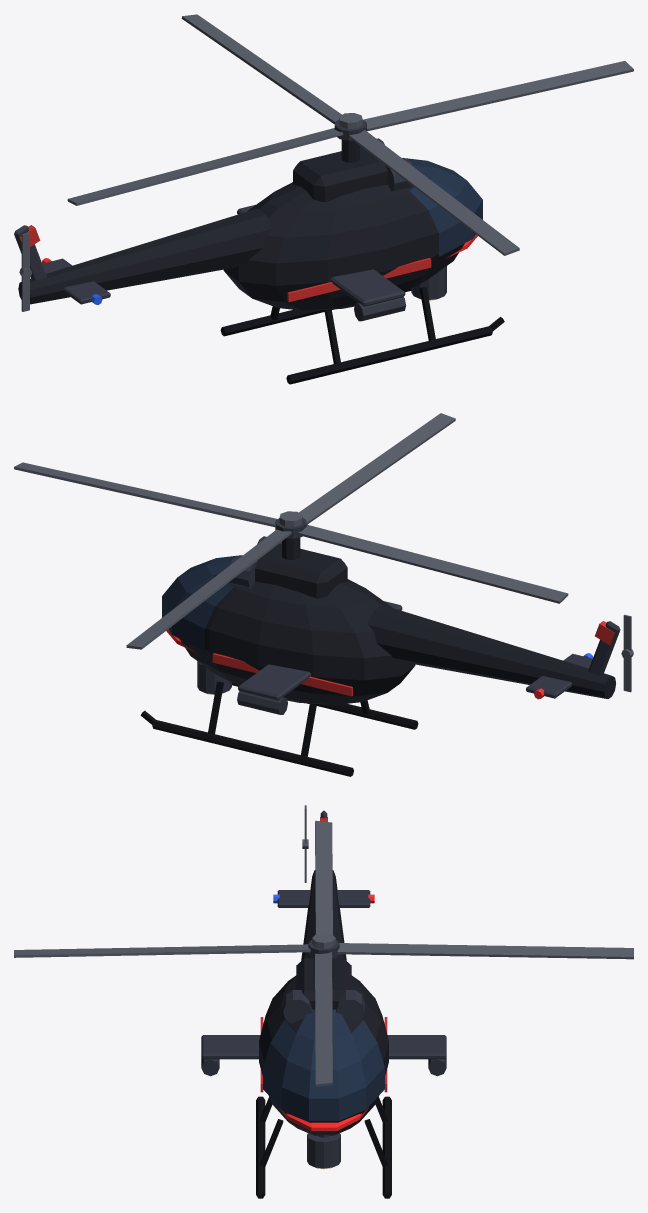
File: chopper.glb
3 views of the same model, one above another, from view 1: azimuth 30°, elevation 25°; view 2: azimuth 150°, elevation 25°; view 3: azimuth 270°, elevation 25° (orthographic). The views are drawn at different scales.
Parts seen in each view (by area): view 1: Chopper, ChopperRotor, ChopperTail; view 2: Chopper, ChopperRotor, ChopperTail; view 3: Chopper, ChopperRotor.
Boxes of the visible parts, x1,y1,x2,y2 form: Chopper: [14, 120, 504, 384]; ChopperRotor: [67, 14, 633, 255]; ChopperTail: [19, 232, 31, 311]; Chopper: [140, 518, 620, 776]; ChopperRotor: [14, 413, 568, 649]; ChopperTail: [621, 614, 633, 692]; Chopper: [201, 810, 446, 1198]; ChopperRotor: [14, 820, 633, 1086].
Bounding box in the file's own units: 5.21 × 1.76 × 4.7.
